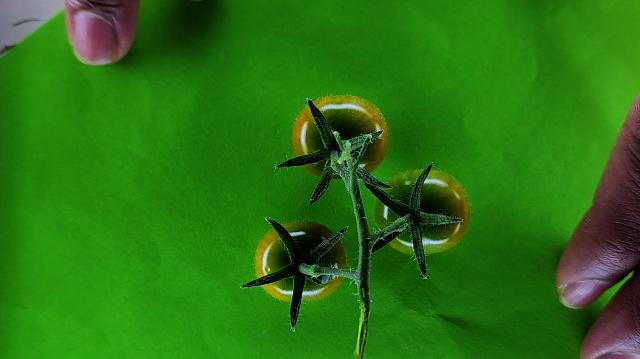Fully Grown: (373, 170, 471, 257), (290, 95, 390, 179), (252, 221, 346, 303)
